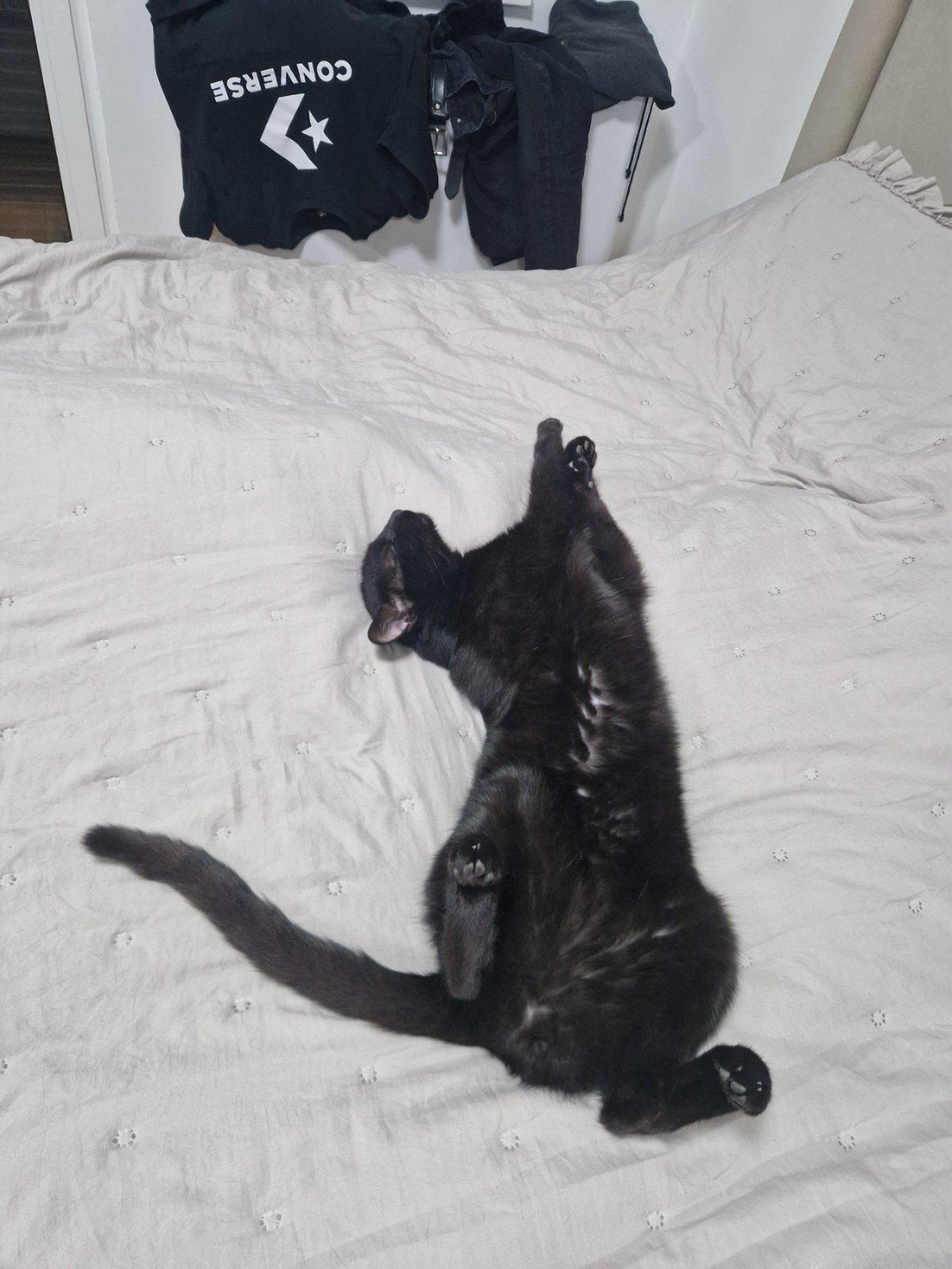macka: (69, 411, 772, 1143)
